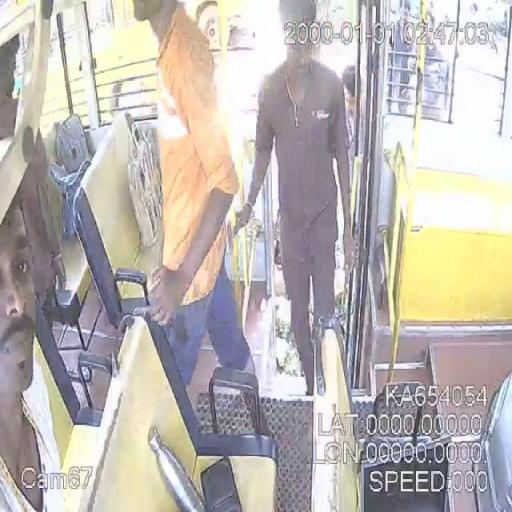persona: (232, 1, 357, 397), (131, 0, 257, 390), (2, 194, 70, 512)
